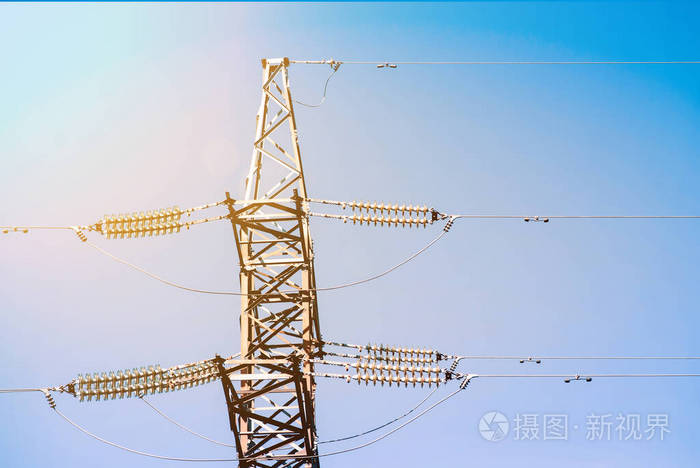insulator: (353, 344, 446, 387), (101, 204, 183, 241), (76, 368, 160, 402), (348, 200, 431, 228)
